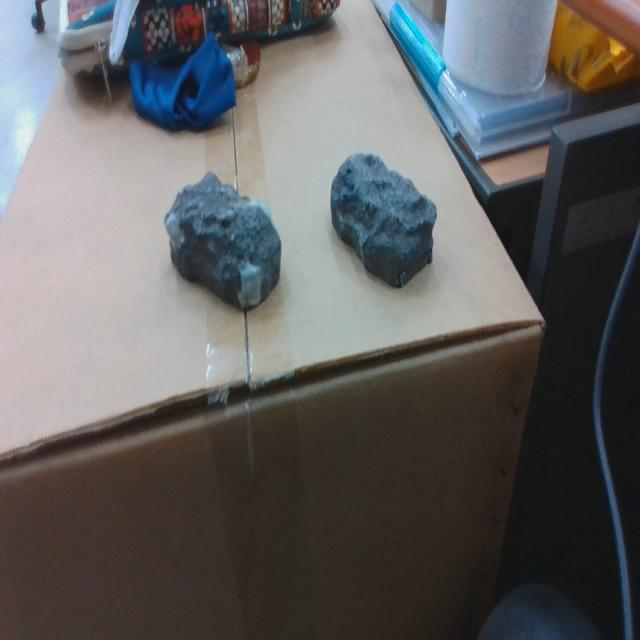stone: (164, 170, 282, 315), (330, 152, 438, 292)
